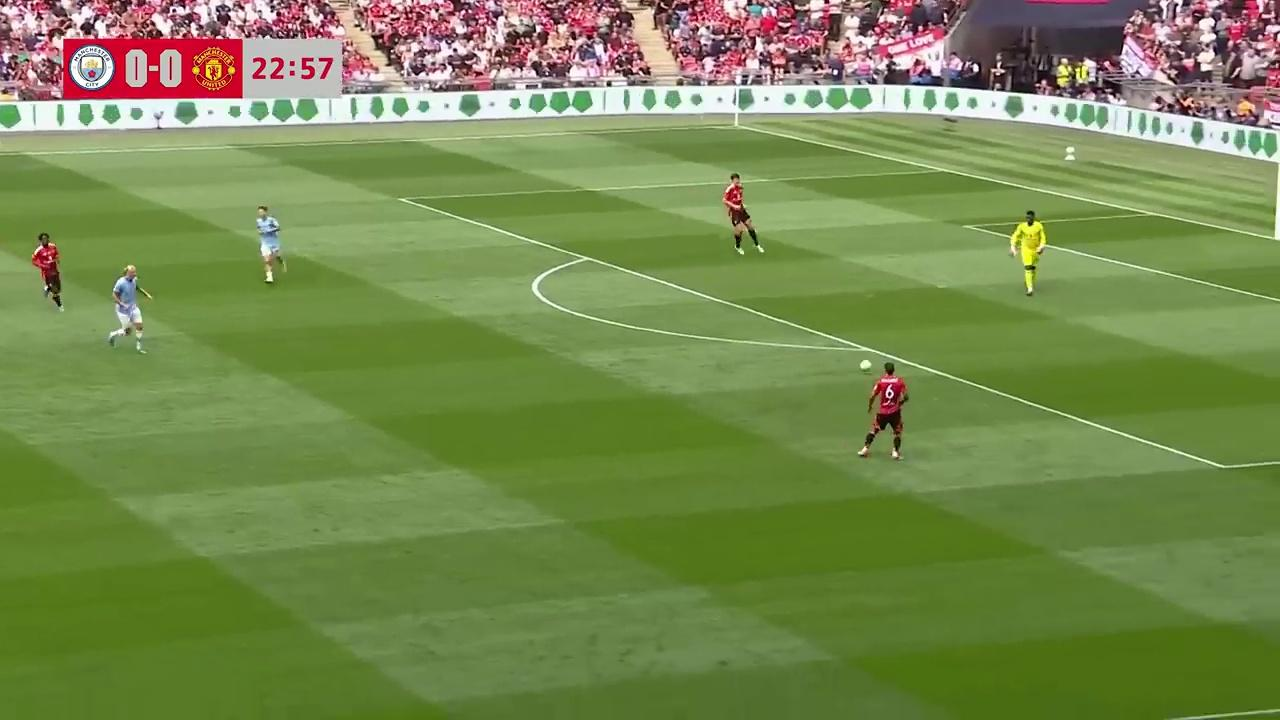ball: (858, 357, 873, 372)
player: (856, 362, 908, 461), (106, 264, 152, 354), (718, 169, 763, 255), (1012, 208, 1048, 297), (255, 204, 287, 284), (31, 232, 62, 311)
